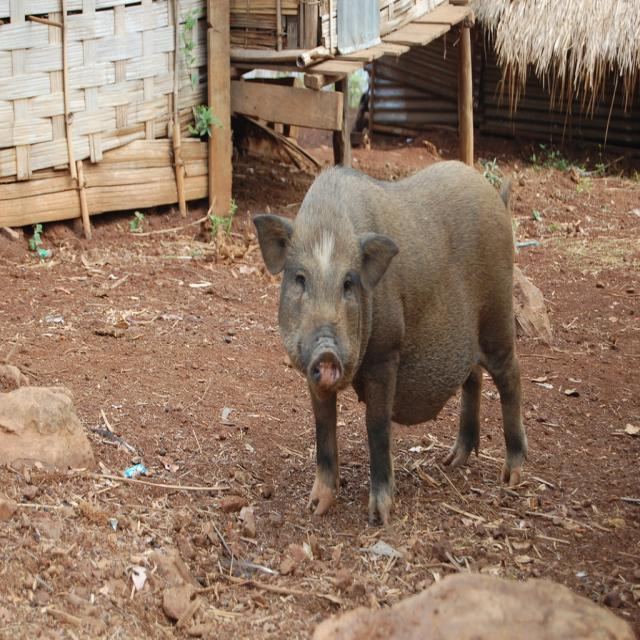Pig: (252, 158, 529, 526)
